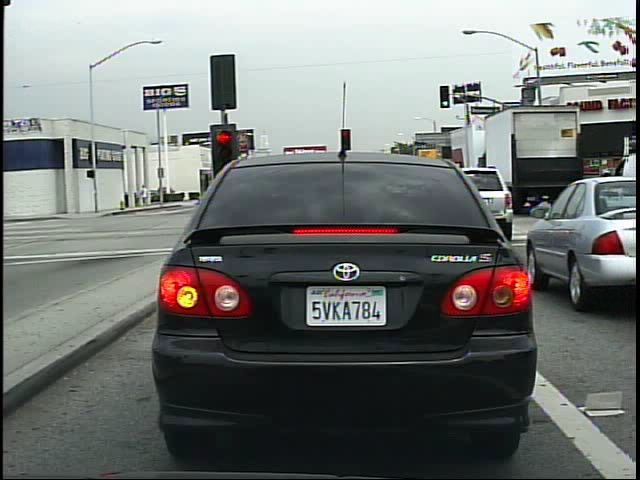person: (517, 169, 532, 202), (139, 182, 151, 211)
